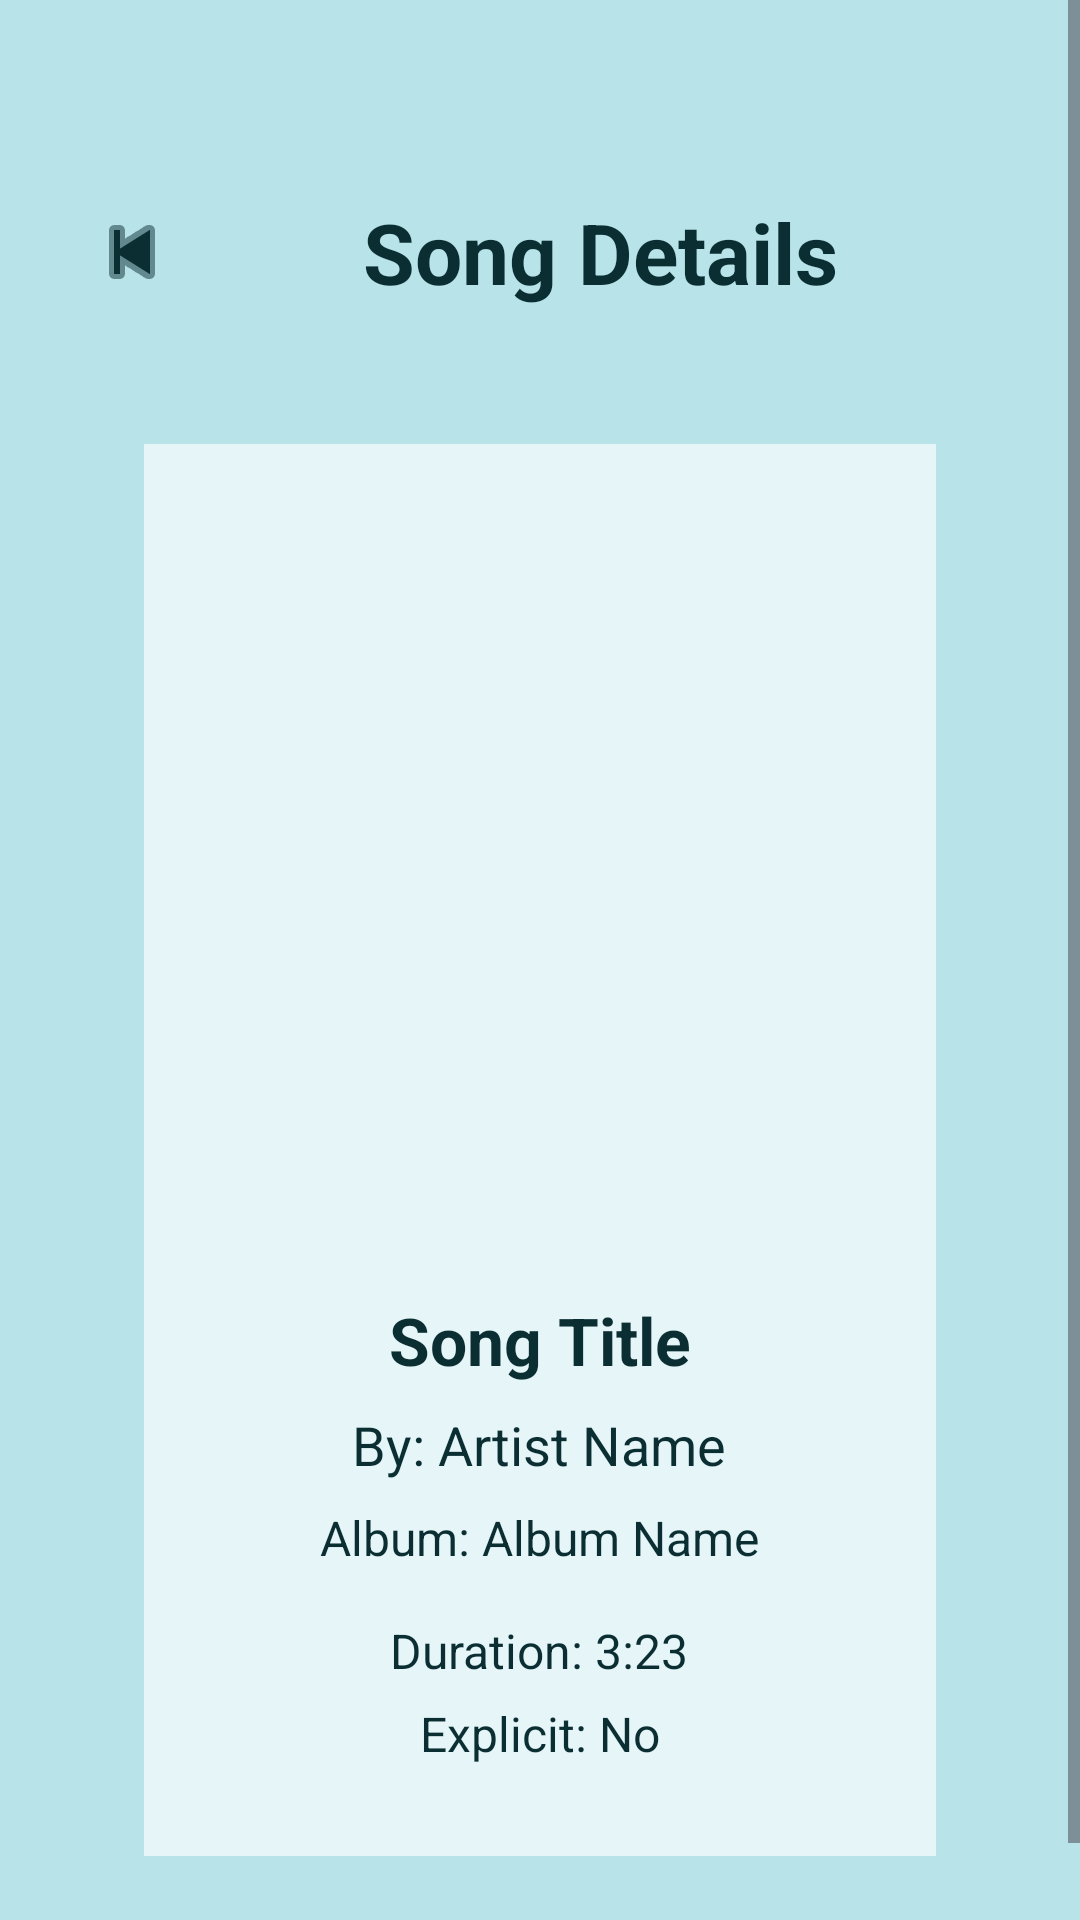

Icon bounding boxes for this 1080*1920 phone screenshot, format (x1, y1, x2, y2):
Back: (109, 225, 155, 279)
